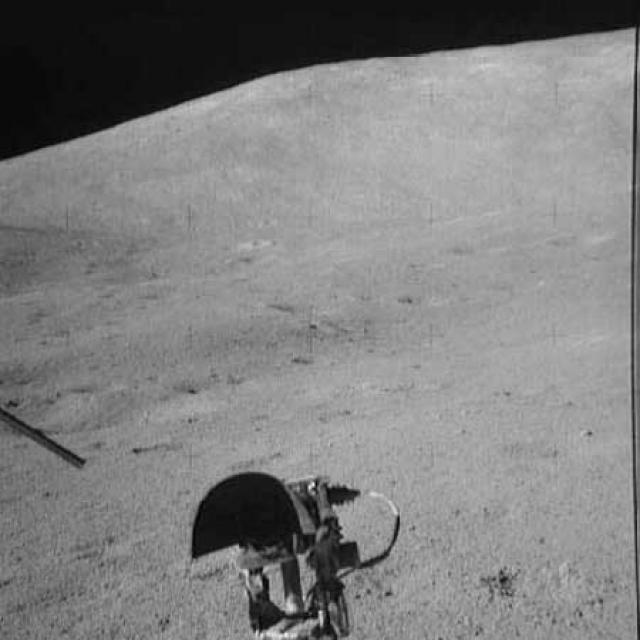artifact: (182, 465, 404, 639), (0, 412, 94, 476)
crater: (3, 391, 140, 440), (457, 214, 611, 254), (384, 281, 478, 307)
